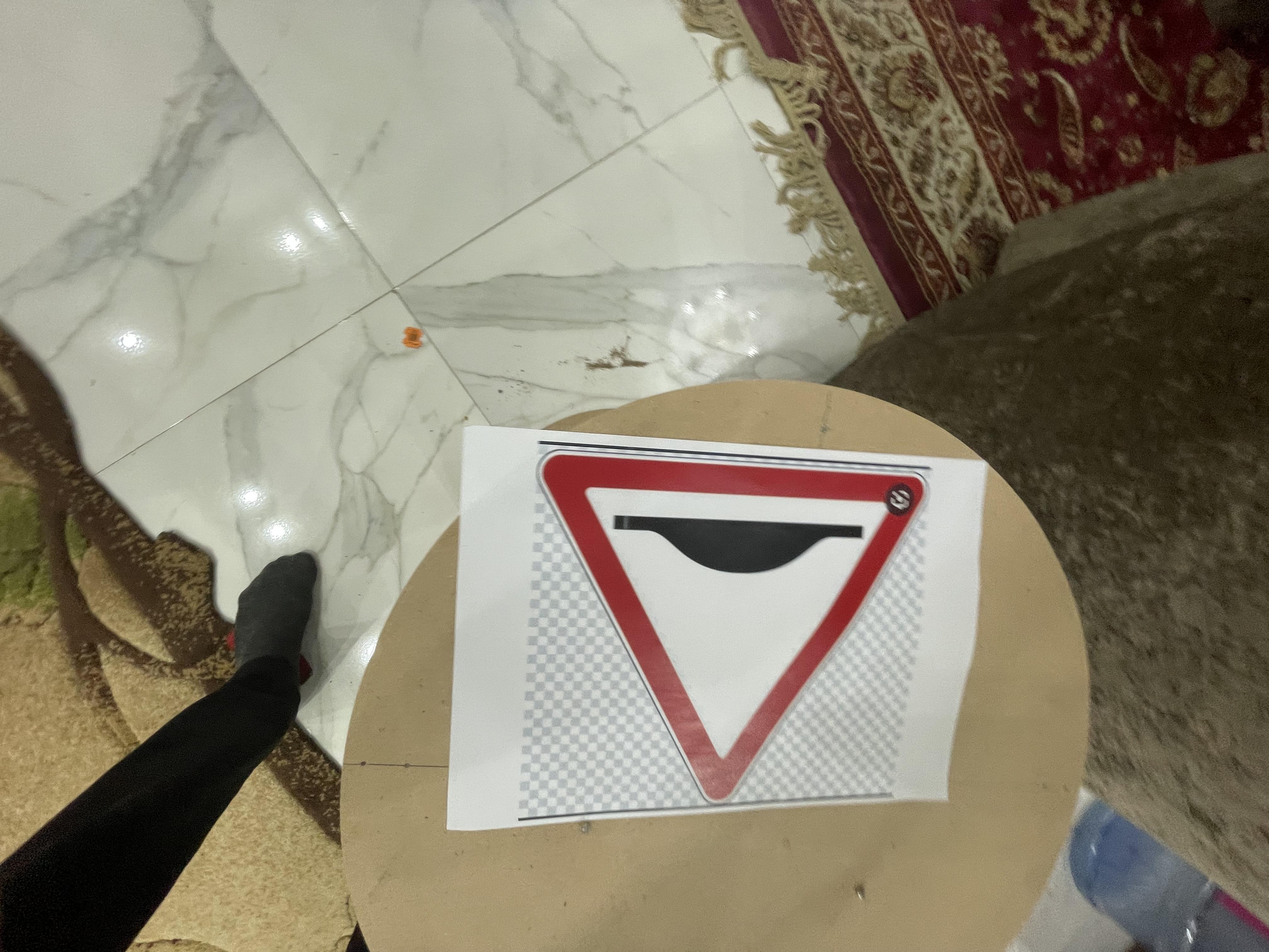Hump: (536, 454, 933, 806)
